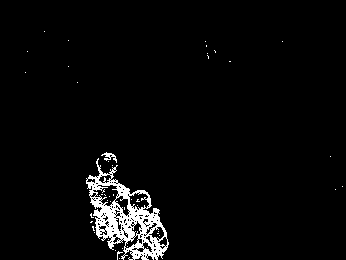person: (86, 149, 133, 258), (119, 188, 169, 260)
